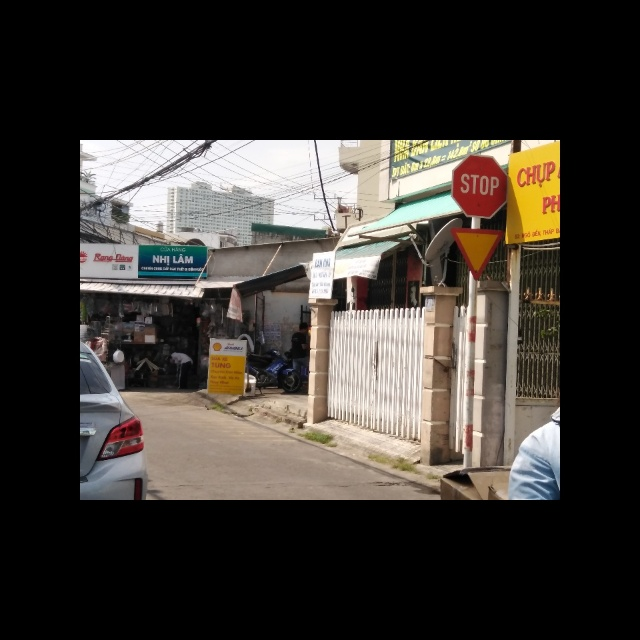Dừng lại: (451, 153, 507, 218)
Giao nhau với đường ưu tiên: (450, 226, 504, 280)
